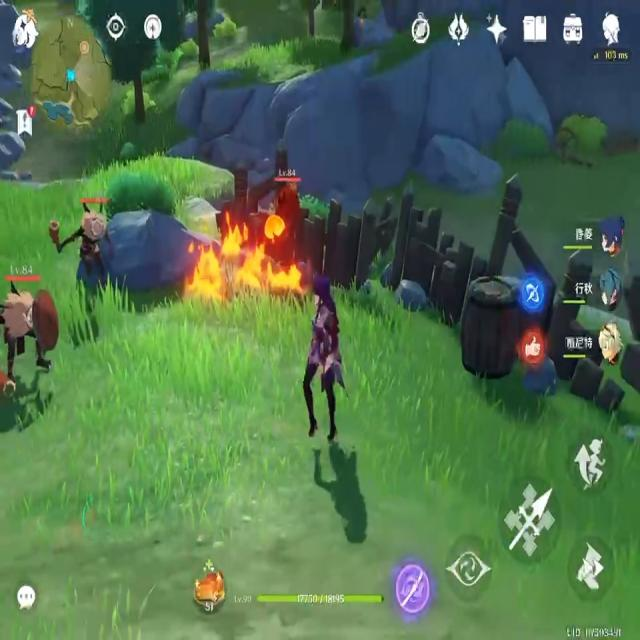genshin-hilichurls: (1, 266, 63, 398), (50, 198, 112, 287), (265, 164, 304, 271)
